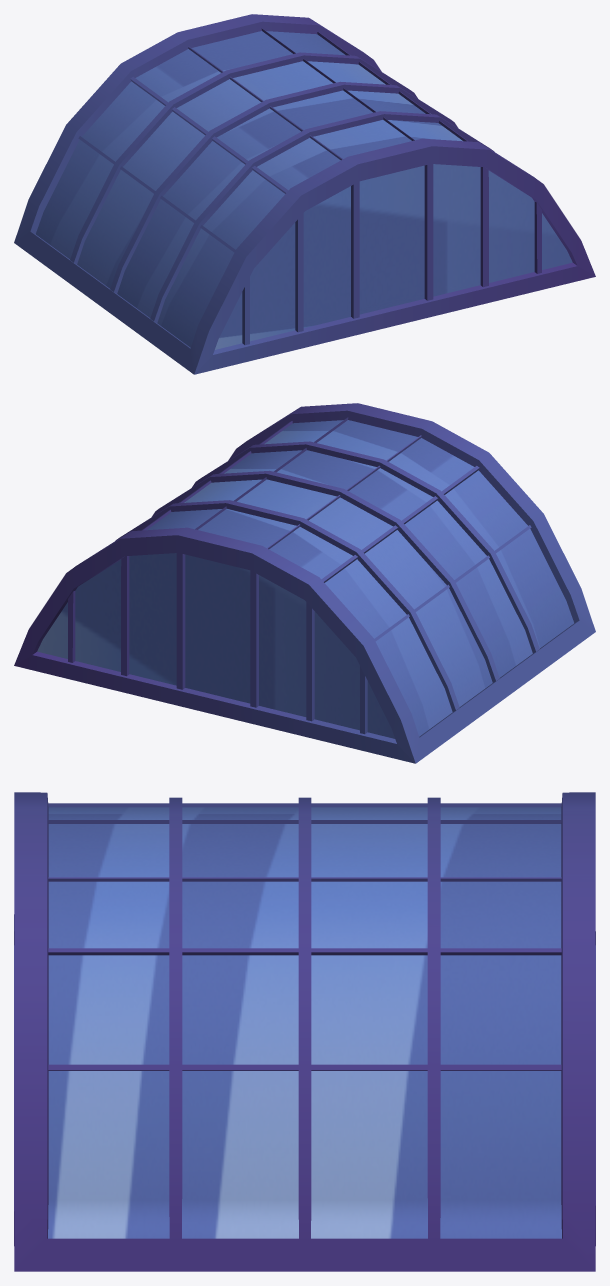
Rendered from RoofProp_5_E.glb.
3 views of the same model, one above another, from view 1: azimuth 30°, elevation 25°; view 2: azimuth 150°, elevation 25°; view 3: azimuth 270°, elevation 25° (orthographic). The views are drawn at different scales.
Parts seen in each view (by area): view 1: RoofProp_5_E; view 2: RoofProp_5_E; view 3: RoofProp_5_E.
Part boxes in pixels (<box>): RoofProp_5_E: <box>14,14,595,374</box>; RoofProp_5_E: <box>14,403,595,763</box>; RoofProp_5_E: <box>14,792,595,1271</box>.
Size of the model in its own units: 3.37 by 1.37 by 2.62.
2 materials, 2 textured.
